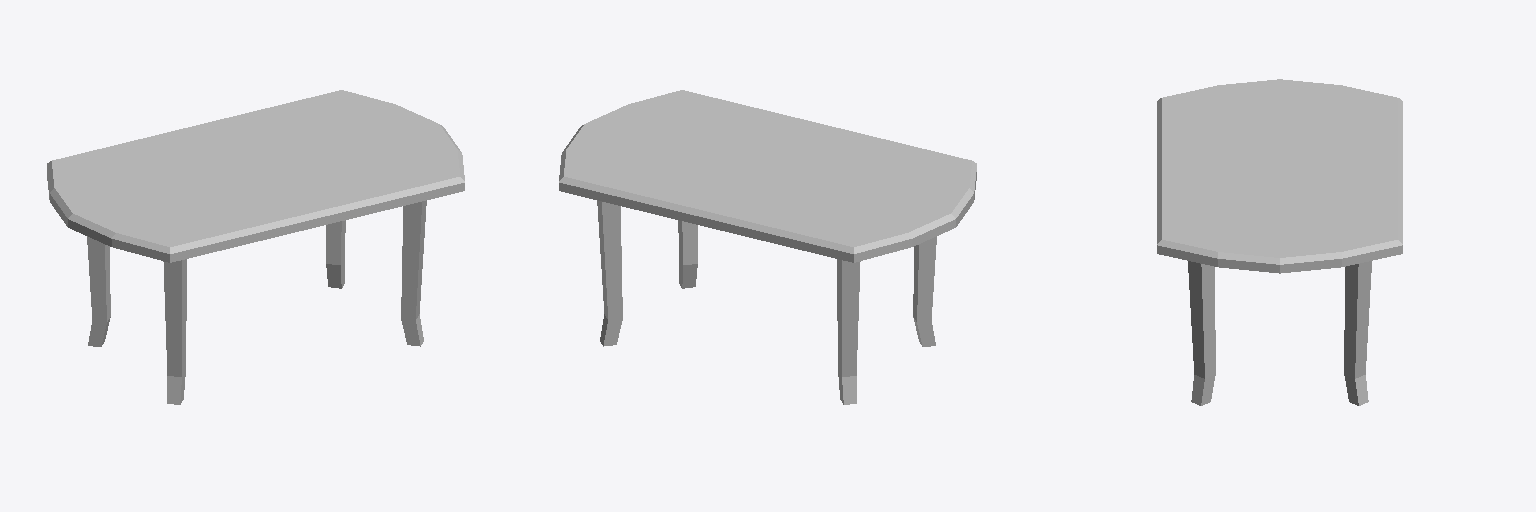
The model's file is table2.obj.
The picture shows the model from 3 angles: view 1: azimuth 30°, elevation 25°; view 2: azimuth 150°, elevation 25°; view 3: azimuth 270°, elevation 25°; orthographic projection.
Parts seen in each view (by area): view 1: Table_Cube.028; view 2: Table_Cube.028; view 3: Table_Cube.028.
Boxes of the visible parts, x1=… form: Table_Cube.028: x1=47, y1=90, x2=464, y2=404; Table_Cube.028: x1=559, y1=90, x2=976, y2=404; Table_Cube.028: x1=1157, y1=79, x2=1402, y2=405.
Size of the model in its own units: 21.91 by 9.73 by 12.47.